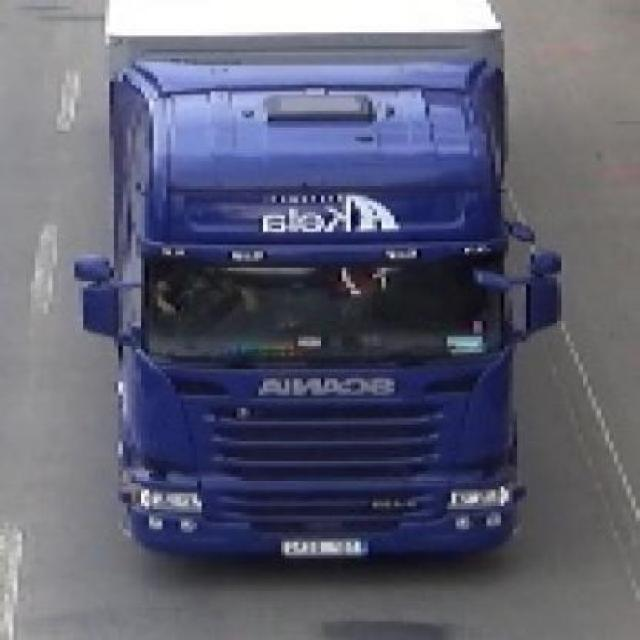truck: (66, 1, 562, 563)
